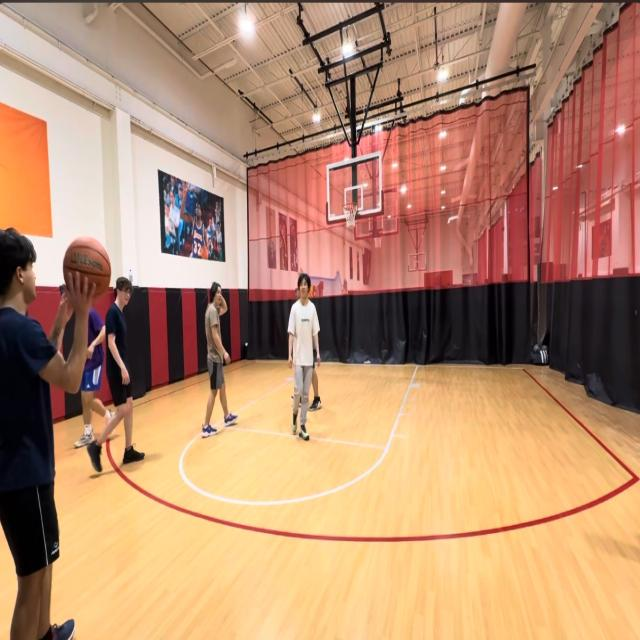Basketball: (64, 237, 110, 270)
Basketball Rim: (342, 202, 358, 228)
